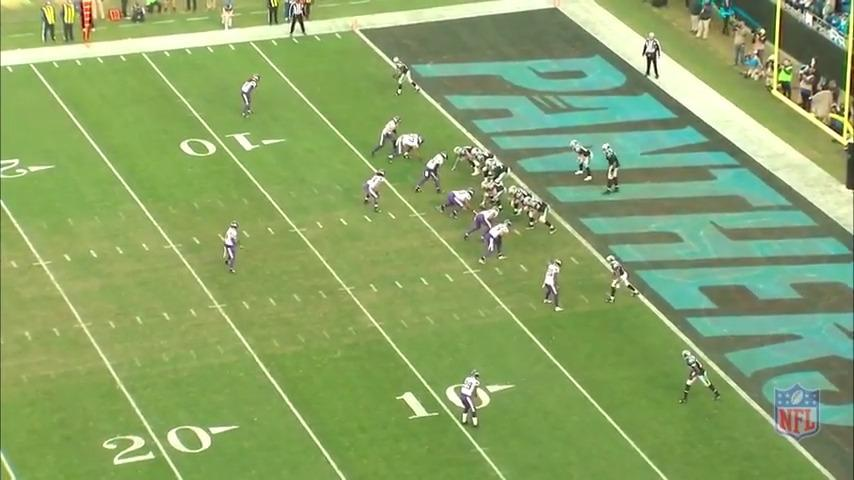defense: (456, 368, 486, 432), (369, 115, 404, 162), (477, 220, 510, 265), (543, 257, 568, 315), (462, 205, 501, 242), (415, 150, 447, 195), (439, 188, 475, 222), (219, 218, 240, 274), (363, 168, 389, 213), (238, 72, 262, 120), (389, 132, 426, 163)
oline: (526, 193, 559, 235), (470, 146, 497, 182), (507, 184, 534, 219), (480, 180, 507, 212), (480, 157, 507, 186)
qb: (599, 139, 621, 196)
ref: (638, 30, 665, 83), (285, 0, 309, 38)
skill: (681, 347, 725, 407), (603, 252, 643, 305), (389, 55, 421, 98), (453, 145, 483, 178), (571, 139, 593, 182)
